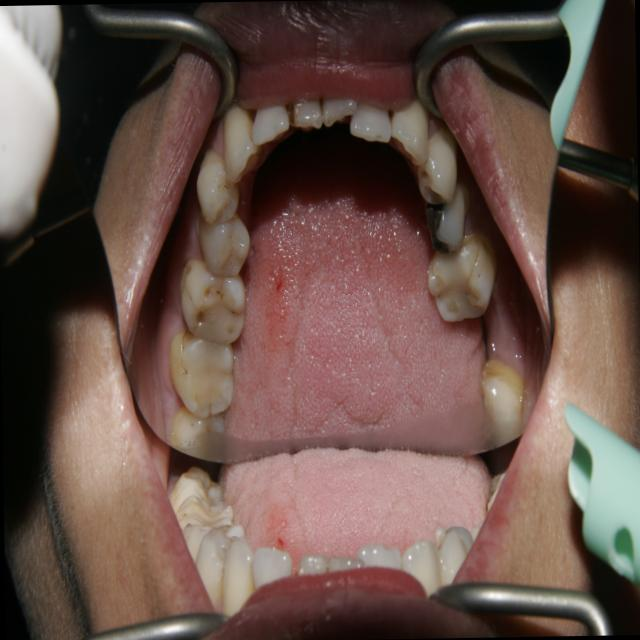tooth: (163, 319, 244, 426), (422, 229, 500, 338), (173, 248, 253, 347), (187, 205, 261, 282), (213, 88, 268, 191), (413, 106, 462, 214), (161, 395, 234, 464), (475, 351, 529, 439), (386, 90, 438, 176), (193, 150, 244, 233), (345, 84, 397, 159), (425, 176, 469, 259), (288, 80, 327, 144), (316, 87, 363, 136), (249, 100, 293, 152)
